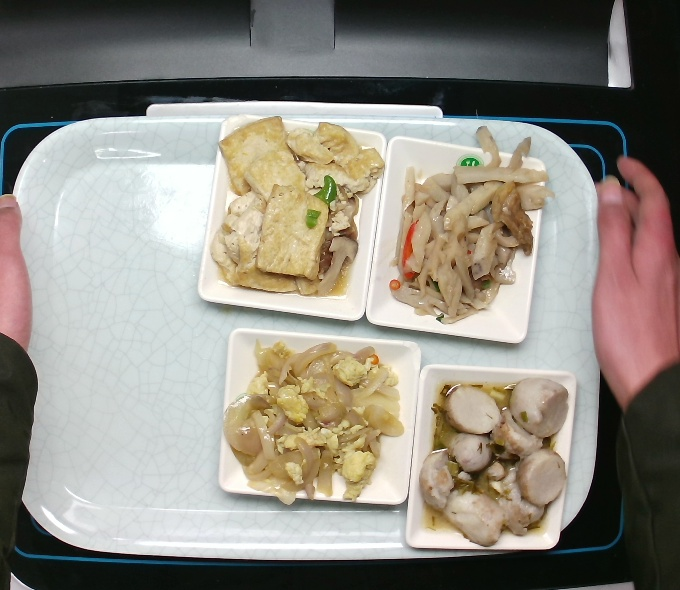wcq-JiaChangDouFu: (201, 112, 390, 301)
wcq-QingChaoOuPian: (383, 121, 556, 327)
wcq-YangCongChaoDan: (213, 337, 411, 509)
wcq-YangYu: (415, 373, 570, 549)
